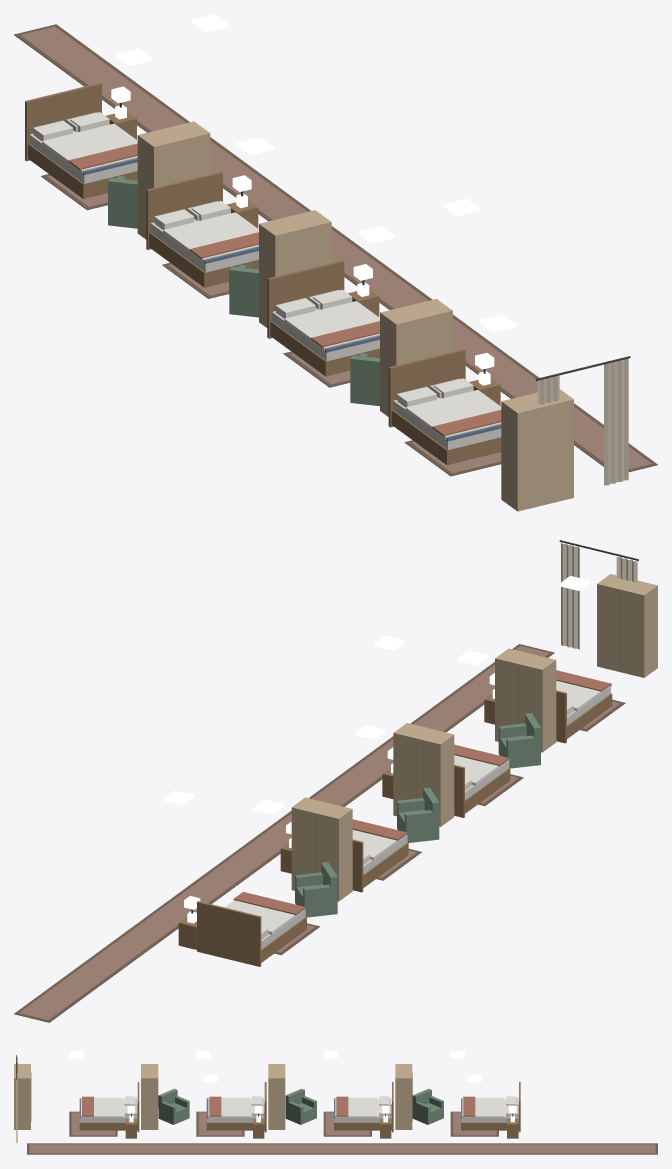
Rendered from fine-s3.glb.
The picture shows the model from 3 angles, top to bottom: view 1: azimuth 30°, elevation 25°; view 2: azimuth 150°, elevation 25°; view 3: azimuth 270°, elevation 25°; orthographic projection. The views are drawn at different scales.
Visible parts, largest first — view 1: soft-s3, dresser.011, bed-frame.011, bed-frame.010, bed-frame.009, bed-frame.008, dresser.008, dresser.010, dresser.009, lounge-chair.006, lounge-chair.008, lounge-chair.007; view 2: soft-s3, dresser.011, dresser.008, dresser.010, dresser.009, bed-frame.008, lounge-chair.008, lounge-chair.006, lounge-chair.007, bed-frame.009, bed-frame.010, bed-frame.011; view 3: soft-s3, dresser.008, dresser.009, dresser.010, dresser.011, lounge-chair.006, lounge-chair.007, lounge-chair.008, bed-frame.010, bed-frame.011, bed-frame.008, bed-frame.009 (+4 smaller).
Part boxes in pixels (x1,y1,x2,y2): soft-s3: [14, 24, 657, 485]; dresser.011: [501, 389, 573, 511]; bed-frame.011: [388, 349, 501, 465]; bed-frame.010: [267, 260, 379, 376]; bed-frame.009: [146, 171, 258, 287]; bed-frame.008: [25, 83, 137, 198]; dresser.008: [137, 121, 210, 239]; dresser.010: [380, 299, 452, 416]; dresser.009: [259, 210, 331, 327]; lounge-chair.006: [108, 176, 137, 228]; lounge-chair.008: [350, 353, 379, 406]; lounge-chair.007: [229, 264, 258, 317]; soft-s3: [14, 540, 638, 1022]; dresser.011: [597, 574, 657, 677]; dresser.008: [291, 797, 352, 901]; dresser.010: [495, 648, 556, 752]; dresser.009: [393, 723, 454, 826]; bed-frame.008: [197, 901, 306, 966]; lounge-chair.008: [498, 713, 541, 768]; lounge-chair.006: [295, 862, 337, 917]; lounge-chair.007: [397, 787, 439, 842]; bed-frame.009: [352, 832, 408, 892]; bed-frame.010: [454, 758, 510, 817]; bed-frame.011: [556, 683, 612, 743]; soft-s3: [16, 1055, 657, 1154]; dresser.008: [395, 1064, 412, 1129]; dresser.009: [268, 1064, 285, 1129]; dresser.010: [141, 1064, 158, 1129]; dresser.011: [14, 1064, 31, 1129]; lounge-chair.006: [412, 1088, 443, 1124]; lounge-chair.007: [285, 1088, 316, 1124]; lounge-chair.008: [158, 1088, 189, 1124]; bed-frame.010: [206, 1082, 266, 1132]; bed-frame.011: [79, 1082, 139, 1132]; bed-frame.008: [461, 1082, 520, 1132]; bed-frame.009: [334, 1082, 393, 1132].
Size of the model in its own units: 3.55 by 2.77 by 22.62.
